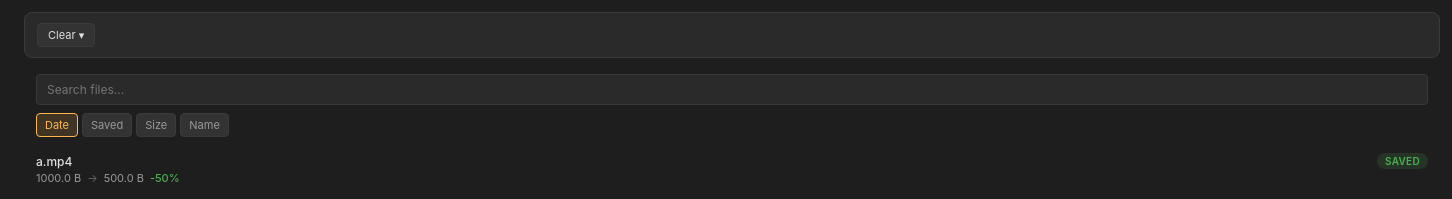
it: HistoryPage › context menu › disables open actions and hints when no surviving file exists
Right-click the text "a.mp4" at (54, 161), box [36,154,72,168]
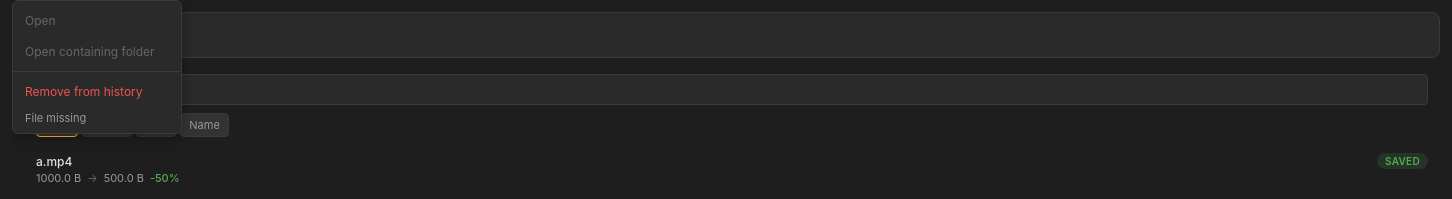
Expected: the text "File missing" is shown, [25,111,86,125]
Expected: the menu item "Open" is disabled, [13,5,181,36]
Expected: the menu item "Open containing folder" is disabled, [13,36,181,67]
